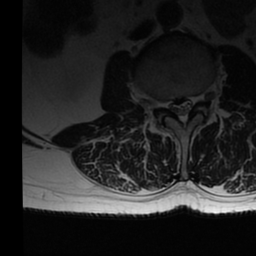CCS_normal: (178, 93, 186, 133)
LFS_stenosis: (194, 85, 204, 110)
LLS_stenosis: (186, 90, 194, 118)
RFS_stenosis: (158, 93, 168, 118)
RLS_stenosis: (169, 95, 178, 121)
